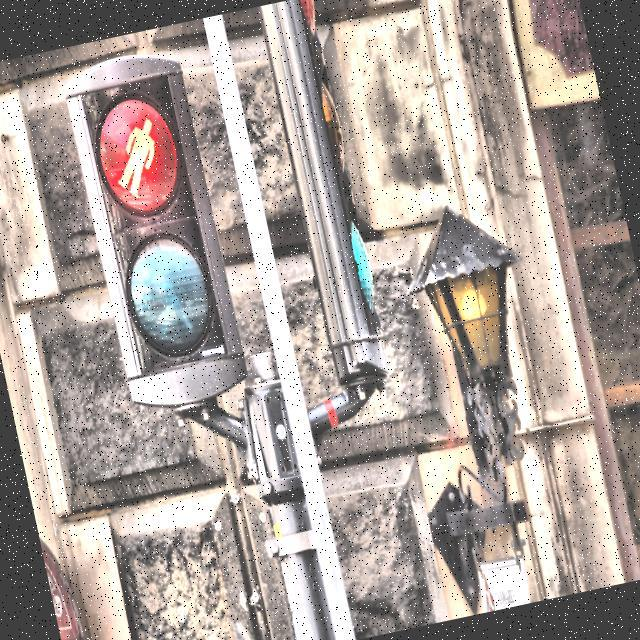red_light: (102, 110, 168, 206)
